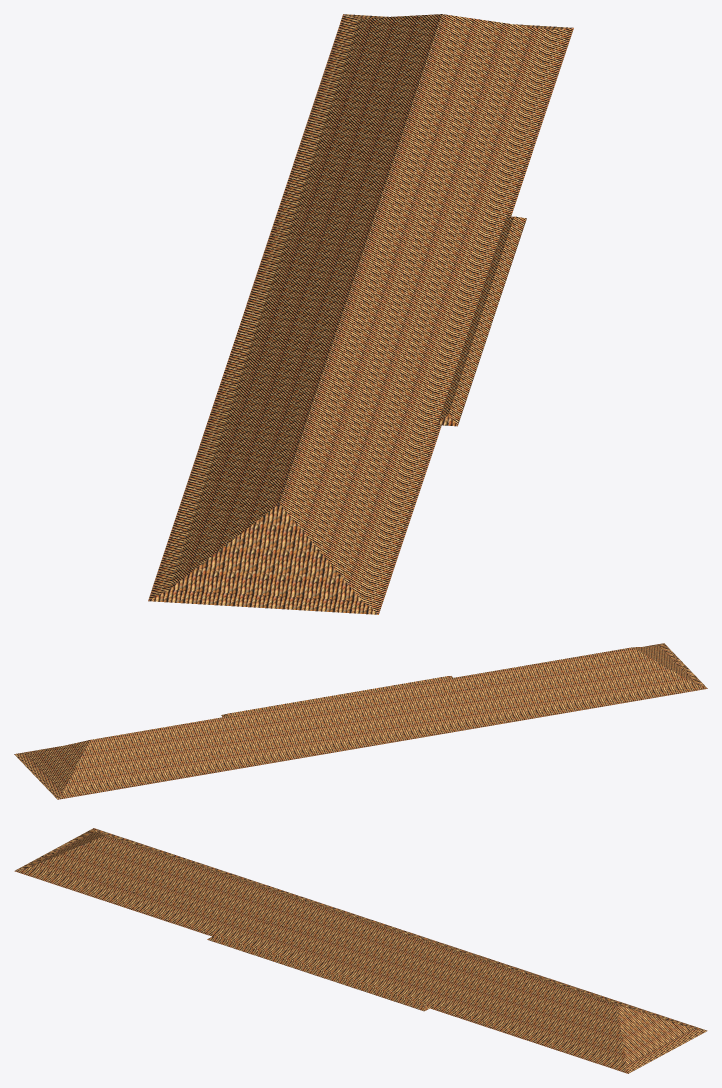
Rendered from TelhadoQuartel.fbx.
3 views of the same model, one above another, from view 1: azimuth 30°, elevation 25°; view 2: azimuth 150°, elevation 25°; view 3: azimuth 270°, elevation 25° (orthographic). The views are drawn at different scales.
Parts seen in each view (by area): view 1: TelhadoQuartel; view 2: TelhadoQuartel; view 3: TelhadoQuartel.
Part boxes in pixels (x1,y1,x2,y2): TelhadoQuartel: (148, 14, 573, 614); TelhadoQuartel: (14, 643, 707, 799); TelhadoQuartel: (14, 828, 707, 1073).
Bounding box in the file's own units: 5188 × 6187 × 305.
Materials: 1 (1 with a texture image).
